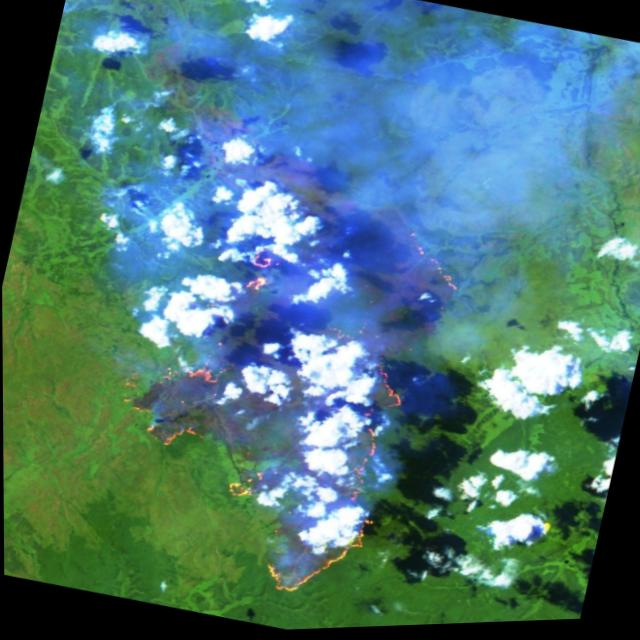fire: (72, 161, 477, 630)
